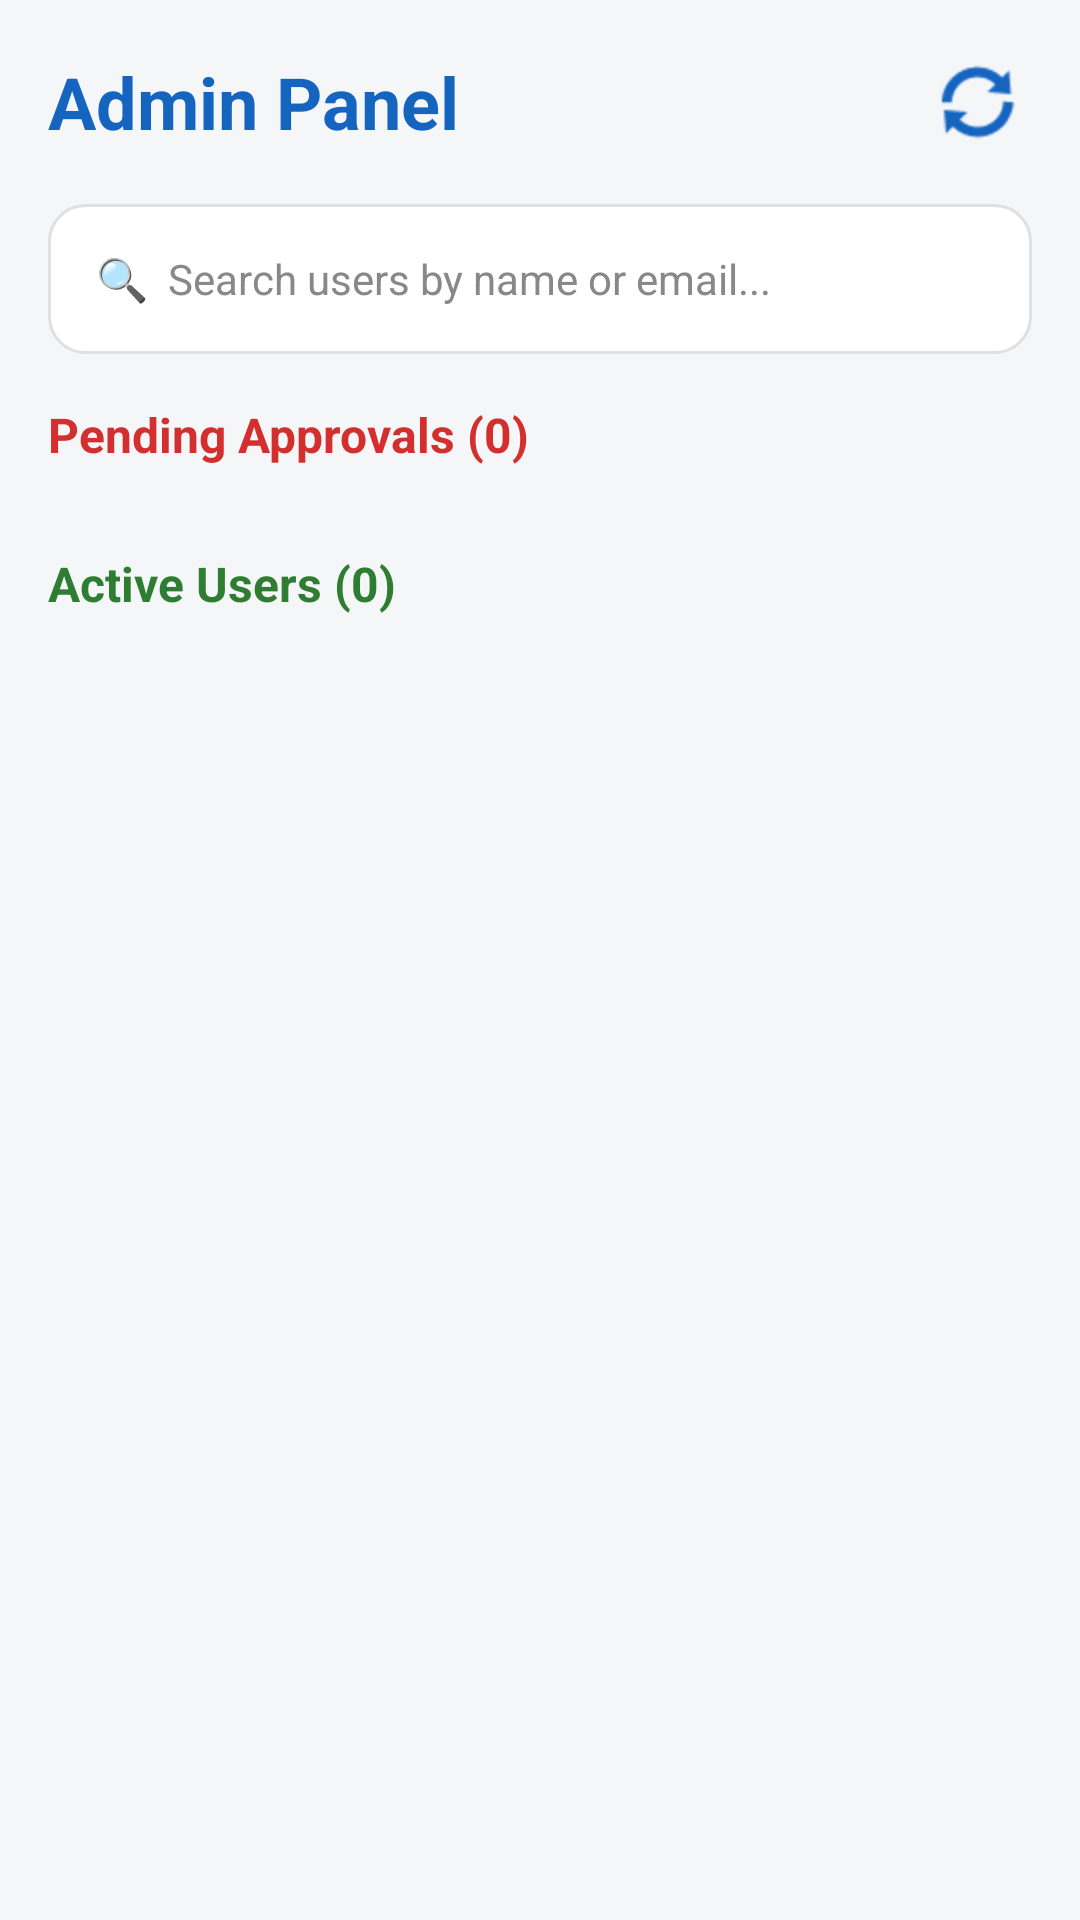

Icons on this 1080px×1920px Android screen, each with the point to tap as (x=x, y=y):
popup sync: (x=978, y=102)
